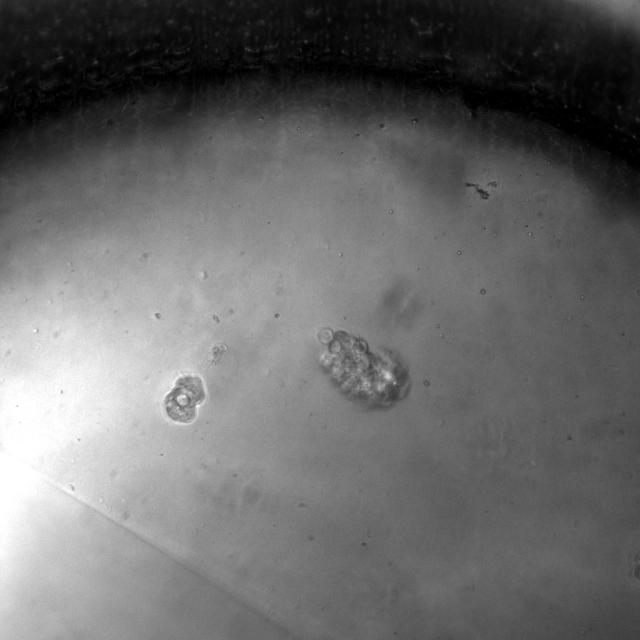organoid: (319, 329, 408, 405), (163, 376, 204, 423)
